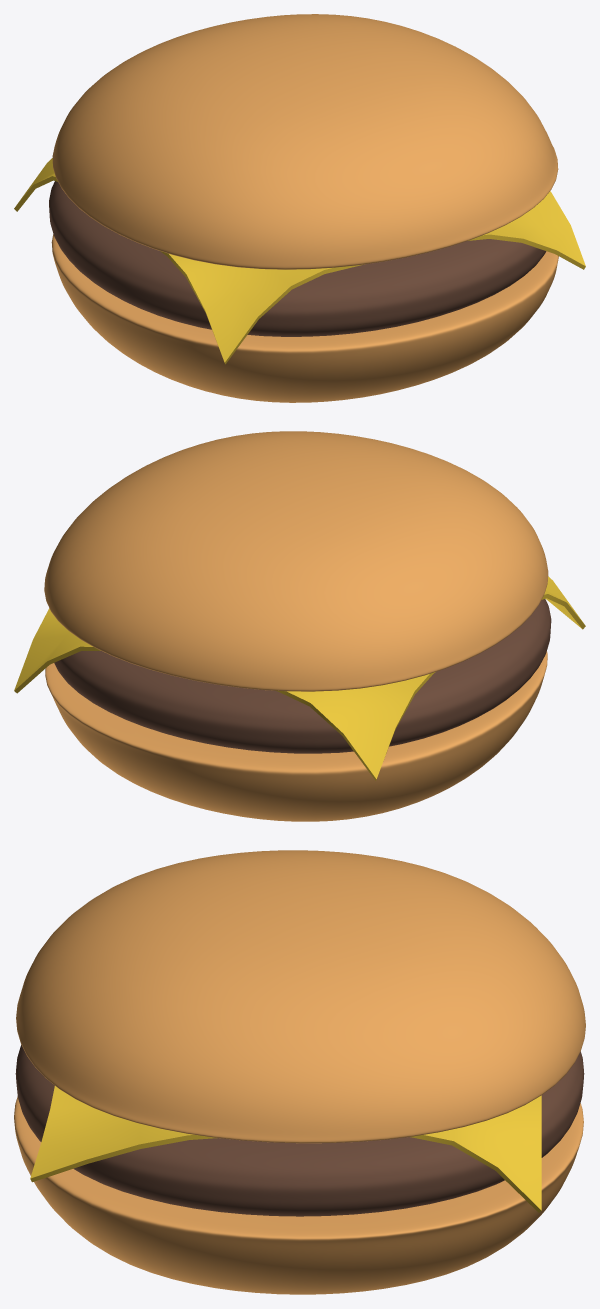
Rendered from hamburger2.glb.
3 renders of one model, top to bottom at view 1: azimuth 30°, elevation 25°; view 2: azimuth 150°, elevation 25°; view 3: azimuth 270°, elevation 25°, orthographic. The views are drawn at different scales.
Visible parts, largest first — view 1: Cube.001, Cube, Cube.002, Plane; view 2: Cube.001, Cube, Cube.002, Plane; view 3: Cube.001, Cube, Cube.002, Plane.
Part boxes in pixels (x1=…): Cube.001: x1=52, y1=14, x2=558, y2=269; Cube: x1=51, y1=234, x2=558, y2=402; Cube.002: x1=49, y1=181, x2=546, y2=336; Plane: x1=14, y1=158, x2=585, y2=364; Cube.001: x1=44, y1=431, x2=548, y2=691; Cube: x1=45, y1=651, x2=547, y2=821; Cube.002: x1=54, y1=599, x2=551, y2=753; Plane: x1=14, y1=576, x2=585, y2=780; Cube.001: x1=16, y1=850, x2=585, y2=1143; Cube: x1=14, y1=1096, x2=583, y2=1294; Cube.002: x1=15, y1=1045, x2=584, y2=1216; Plane: x1=30, y1=1086, x2=541, y2=1212.
Size of the model in its own units: 9.24 by 5.88 by 9.22.
